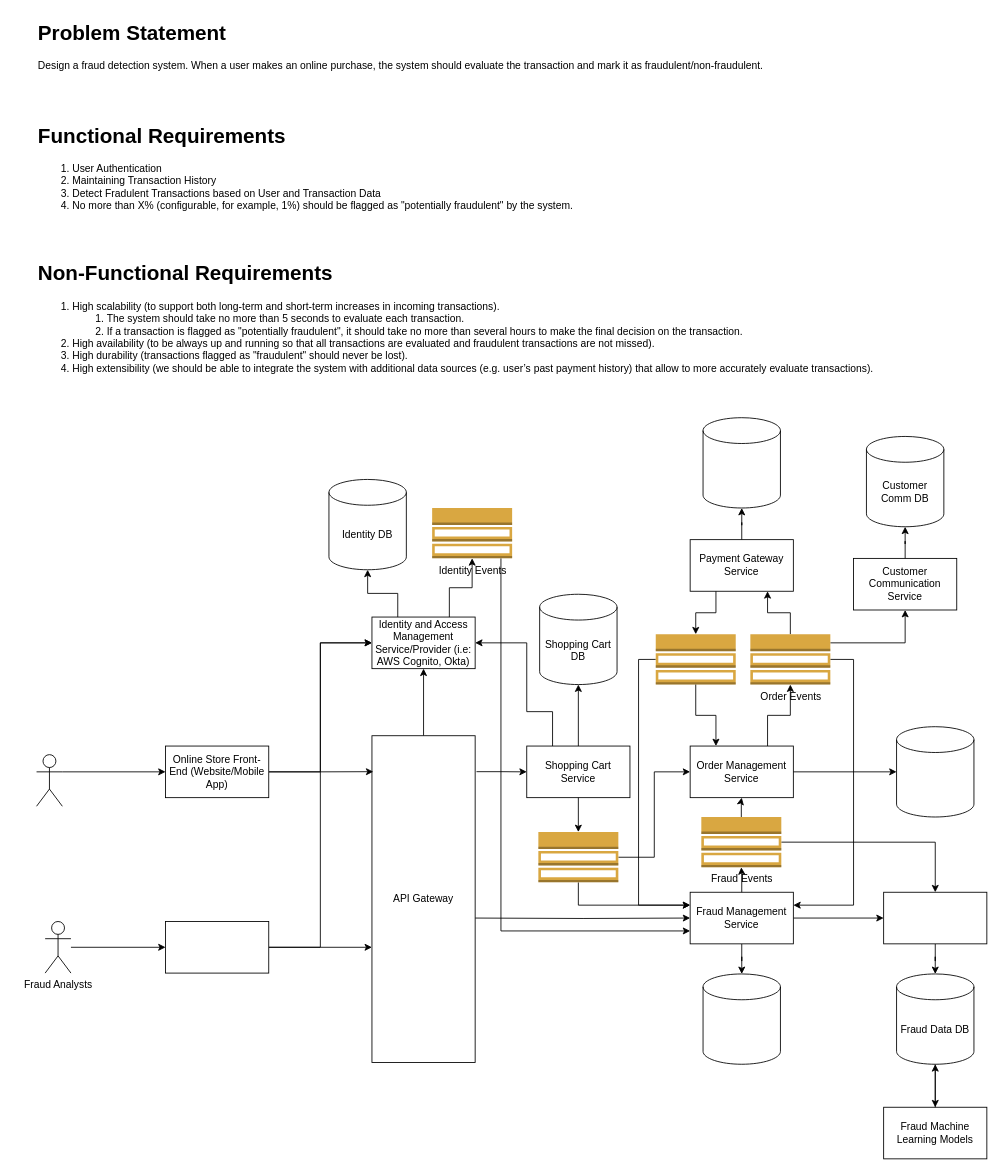
The diagram is 1002 pixels wide and 1174 high, and some of its shapes have lost their labels. The shapes that lost their labels are listed below. From the top down, each one's centre as x and y in pixels, then its label:
At pixel 741 462: "Payment DB".
At pixel 695 659: "Payment Events".
At pixel 49 780: "User/Customer".
At pixel 935 771: "Order Transaction DB".
At pixel 578 856: "Shoping cart events".
At pixel 935 917: "Fraud Analyzer Service".
At pixel 217 947: "Fraud Management Front-End".
At pixel 741 1018: "Fraudulent Transaction DB".
